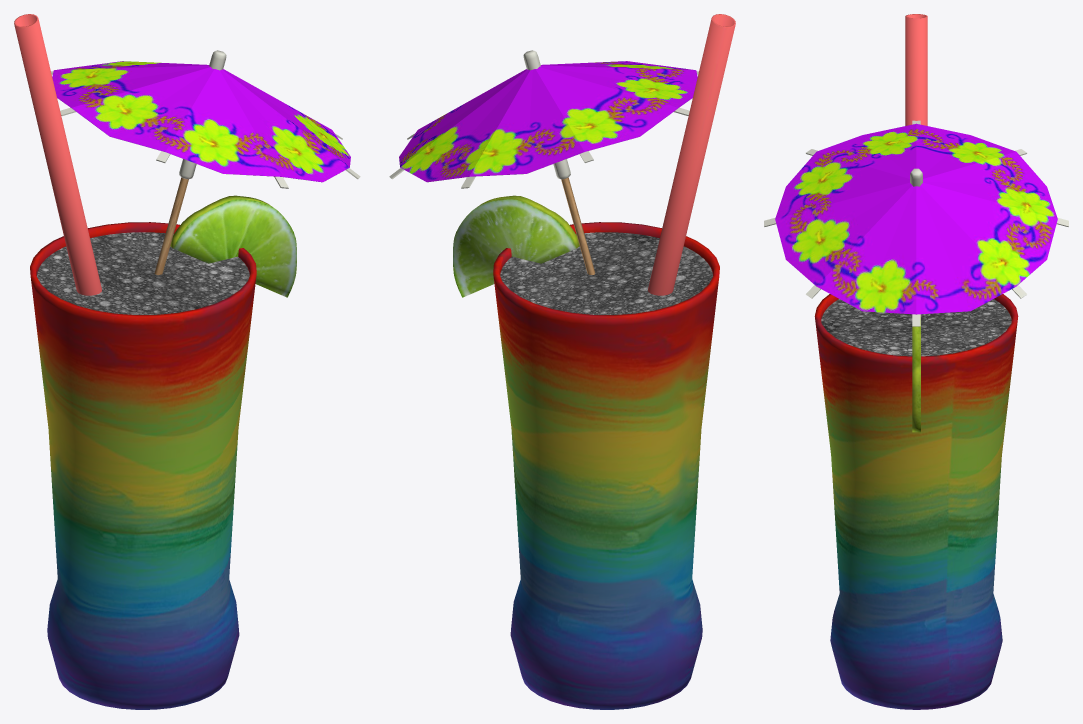
Rendered from Frosty Cocktail.fbx.
The picture shows the model from 3 angles, left to right: view 1: azimuth 30°, elevation 25°; view 2: azimuth 150°, elevation 25°; view 3: azimuth 270°, elevation 25°; orthographic projection. The views are drawn at different scales.
Visible parts, largest first — view 1: Frosty Cocktail; view 2: Frosty Cocktail; view 3: Frosty Cocktail.
Boxes of the visible parts, x1,y1,x2,y2 form: Frosty Cocktail: [14, 14, 360, 709]; Frosty Cocktail: [389, 14, 735, 709]; Frosty Cocktail: [764, 14, 1068, 709].
Bounding box in the file's own units: 6 × 12.06 × 5.44.
1 material, 1 textured.
